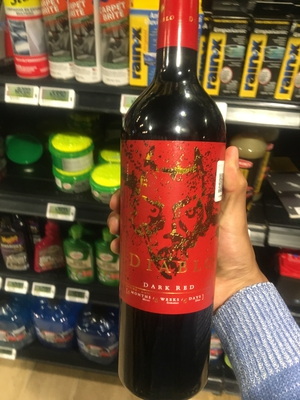diablo dark red: (96, 20, 243, 386)
